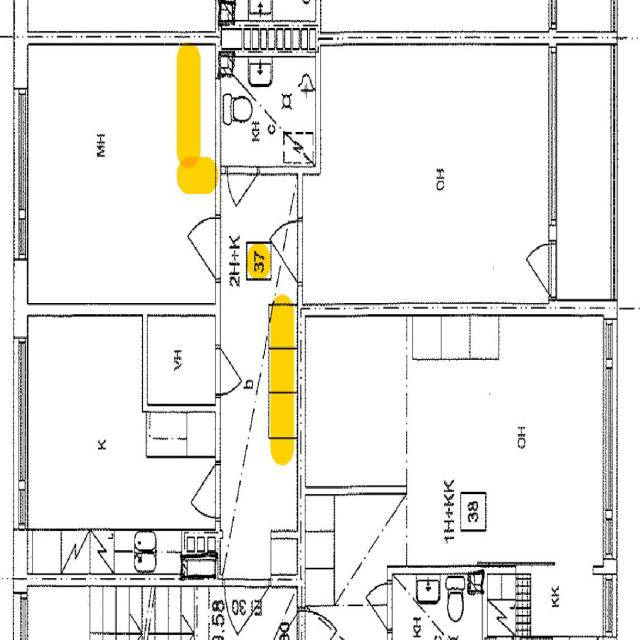door: (258, 220, 302, 282), (176, 218, 220, 278), (514, 244, 556, 296), (181, 464, 220, 518), (228, 166, 258, 220), (215, 348, 250, 394)
